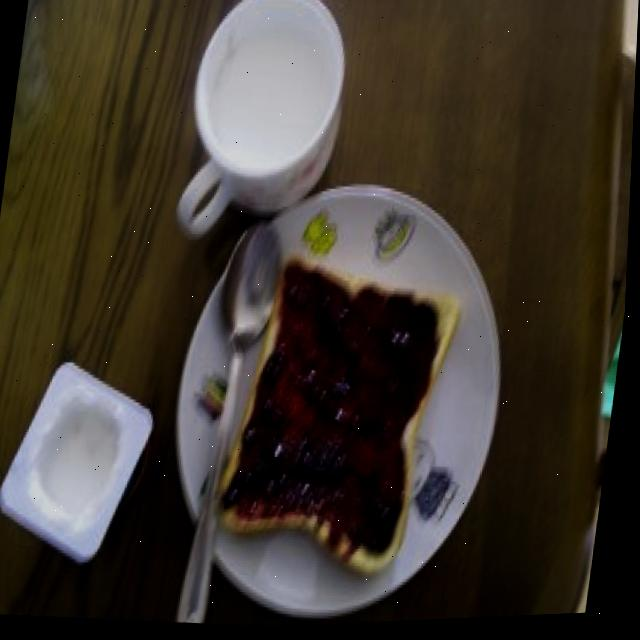面包点心: (205, 241, 471, 594)
